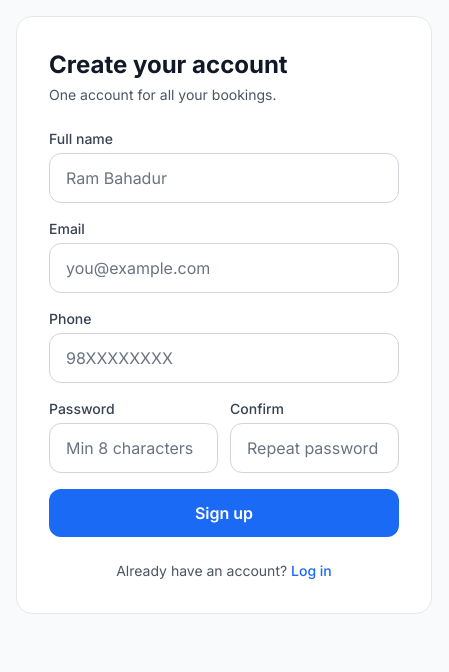
it: Register › shows password mismatch error
Type "Ram" into the field with placeholder "Ram Bahadur" at [224, 178], box [49, 153, 399, 203]
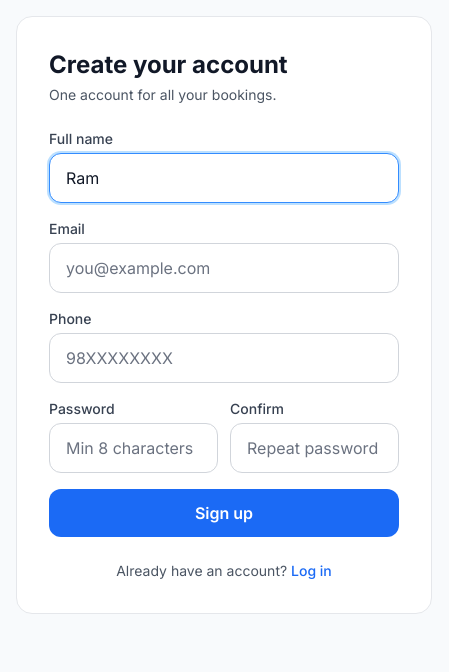
Type "ram@example.com" into the field with placeholder "you@example.com" at [224, 268], box [49, 243, 399, 293]
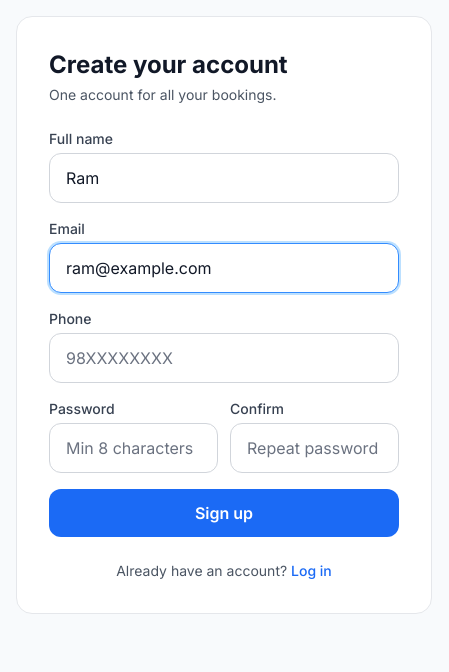
Type "password123" into the password field with placeholder "Min 8 characters" at [134, 448], box [49, 423, 218, 473]
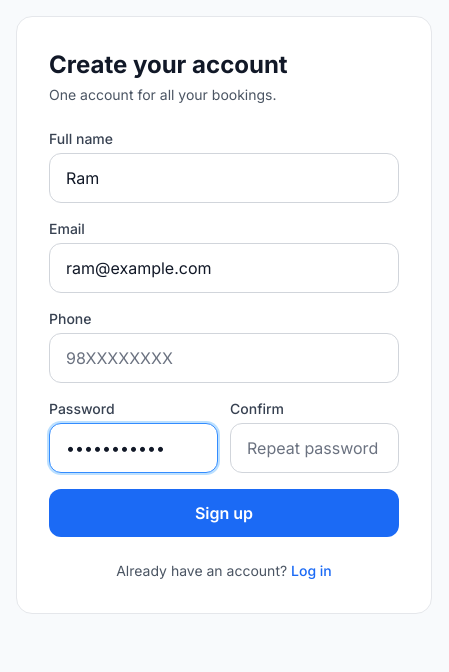
Type "differentpass" into the password field with placeholder "Repeat password" at [314, 448], box [230, 423, 399, 473]
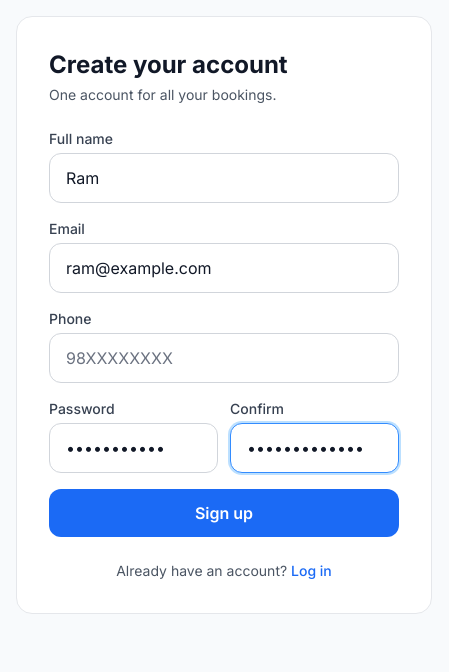
Click the button "Sign up" at [224, 513], box [49, 489, 399, 537]
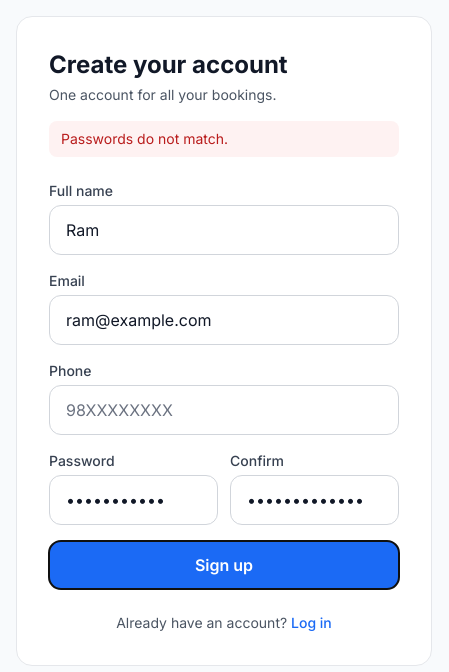
Expected: the text "Passwords do not match." is shown, [49, 121, 399, 157]
